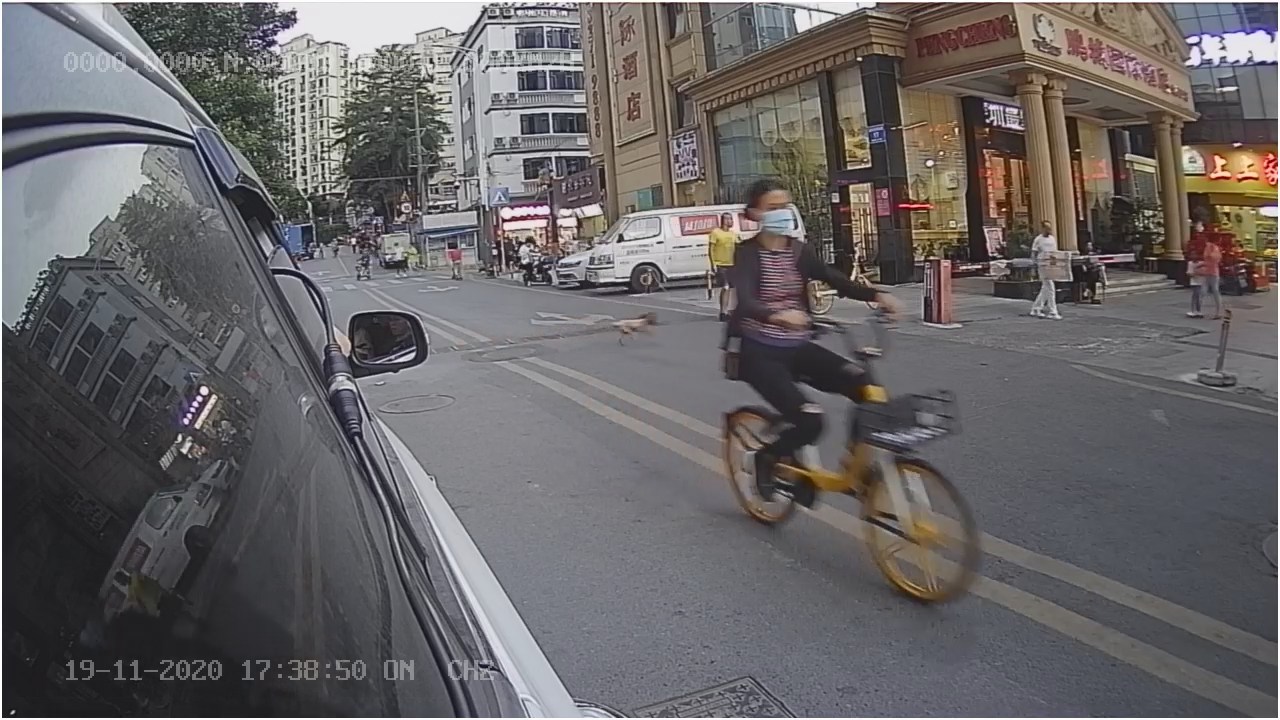person: (718, 179, 884, 396)
